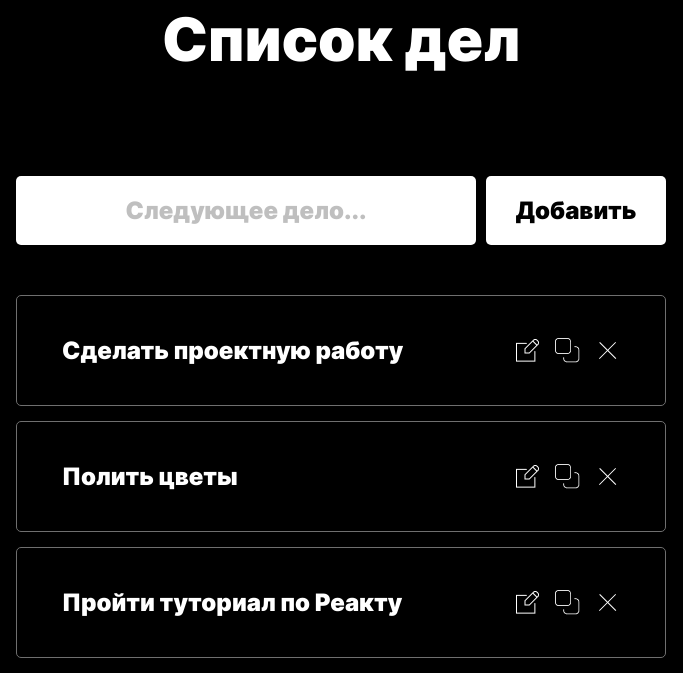
Test: копирует задачу в начало списка
Step 1. Click the button named "Копировать" in the row of "Полить цветы" → click(568, 476), box left=555, top=464, right=580, bottom=489
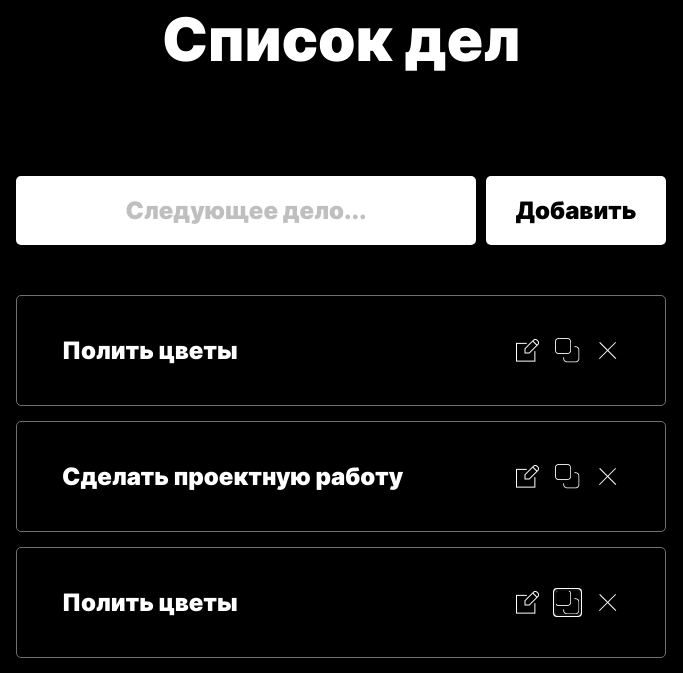
Result: the 1st list item "Полить цветы" is shown at left=16, top=295, right=666, bottom=406
